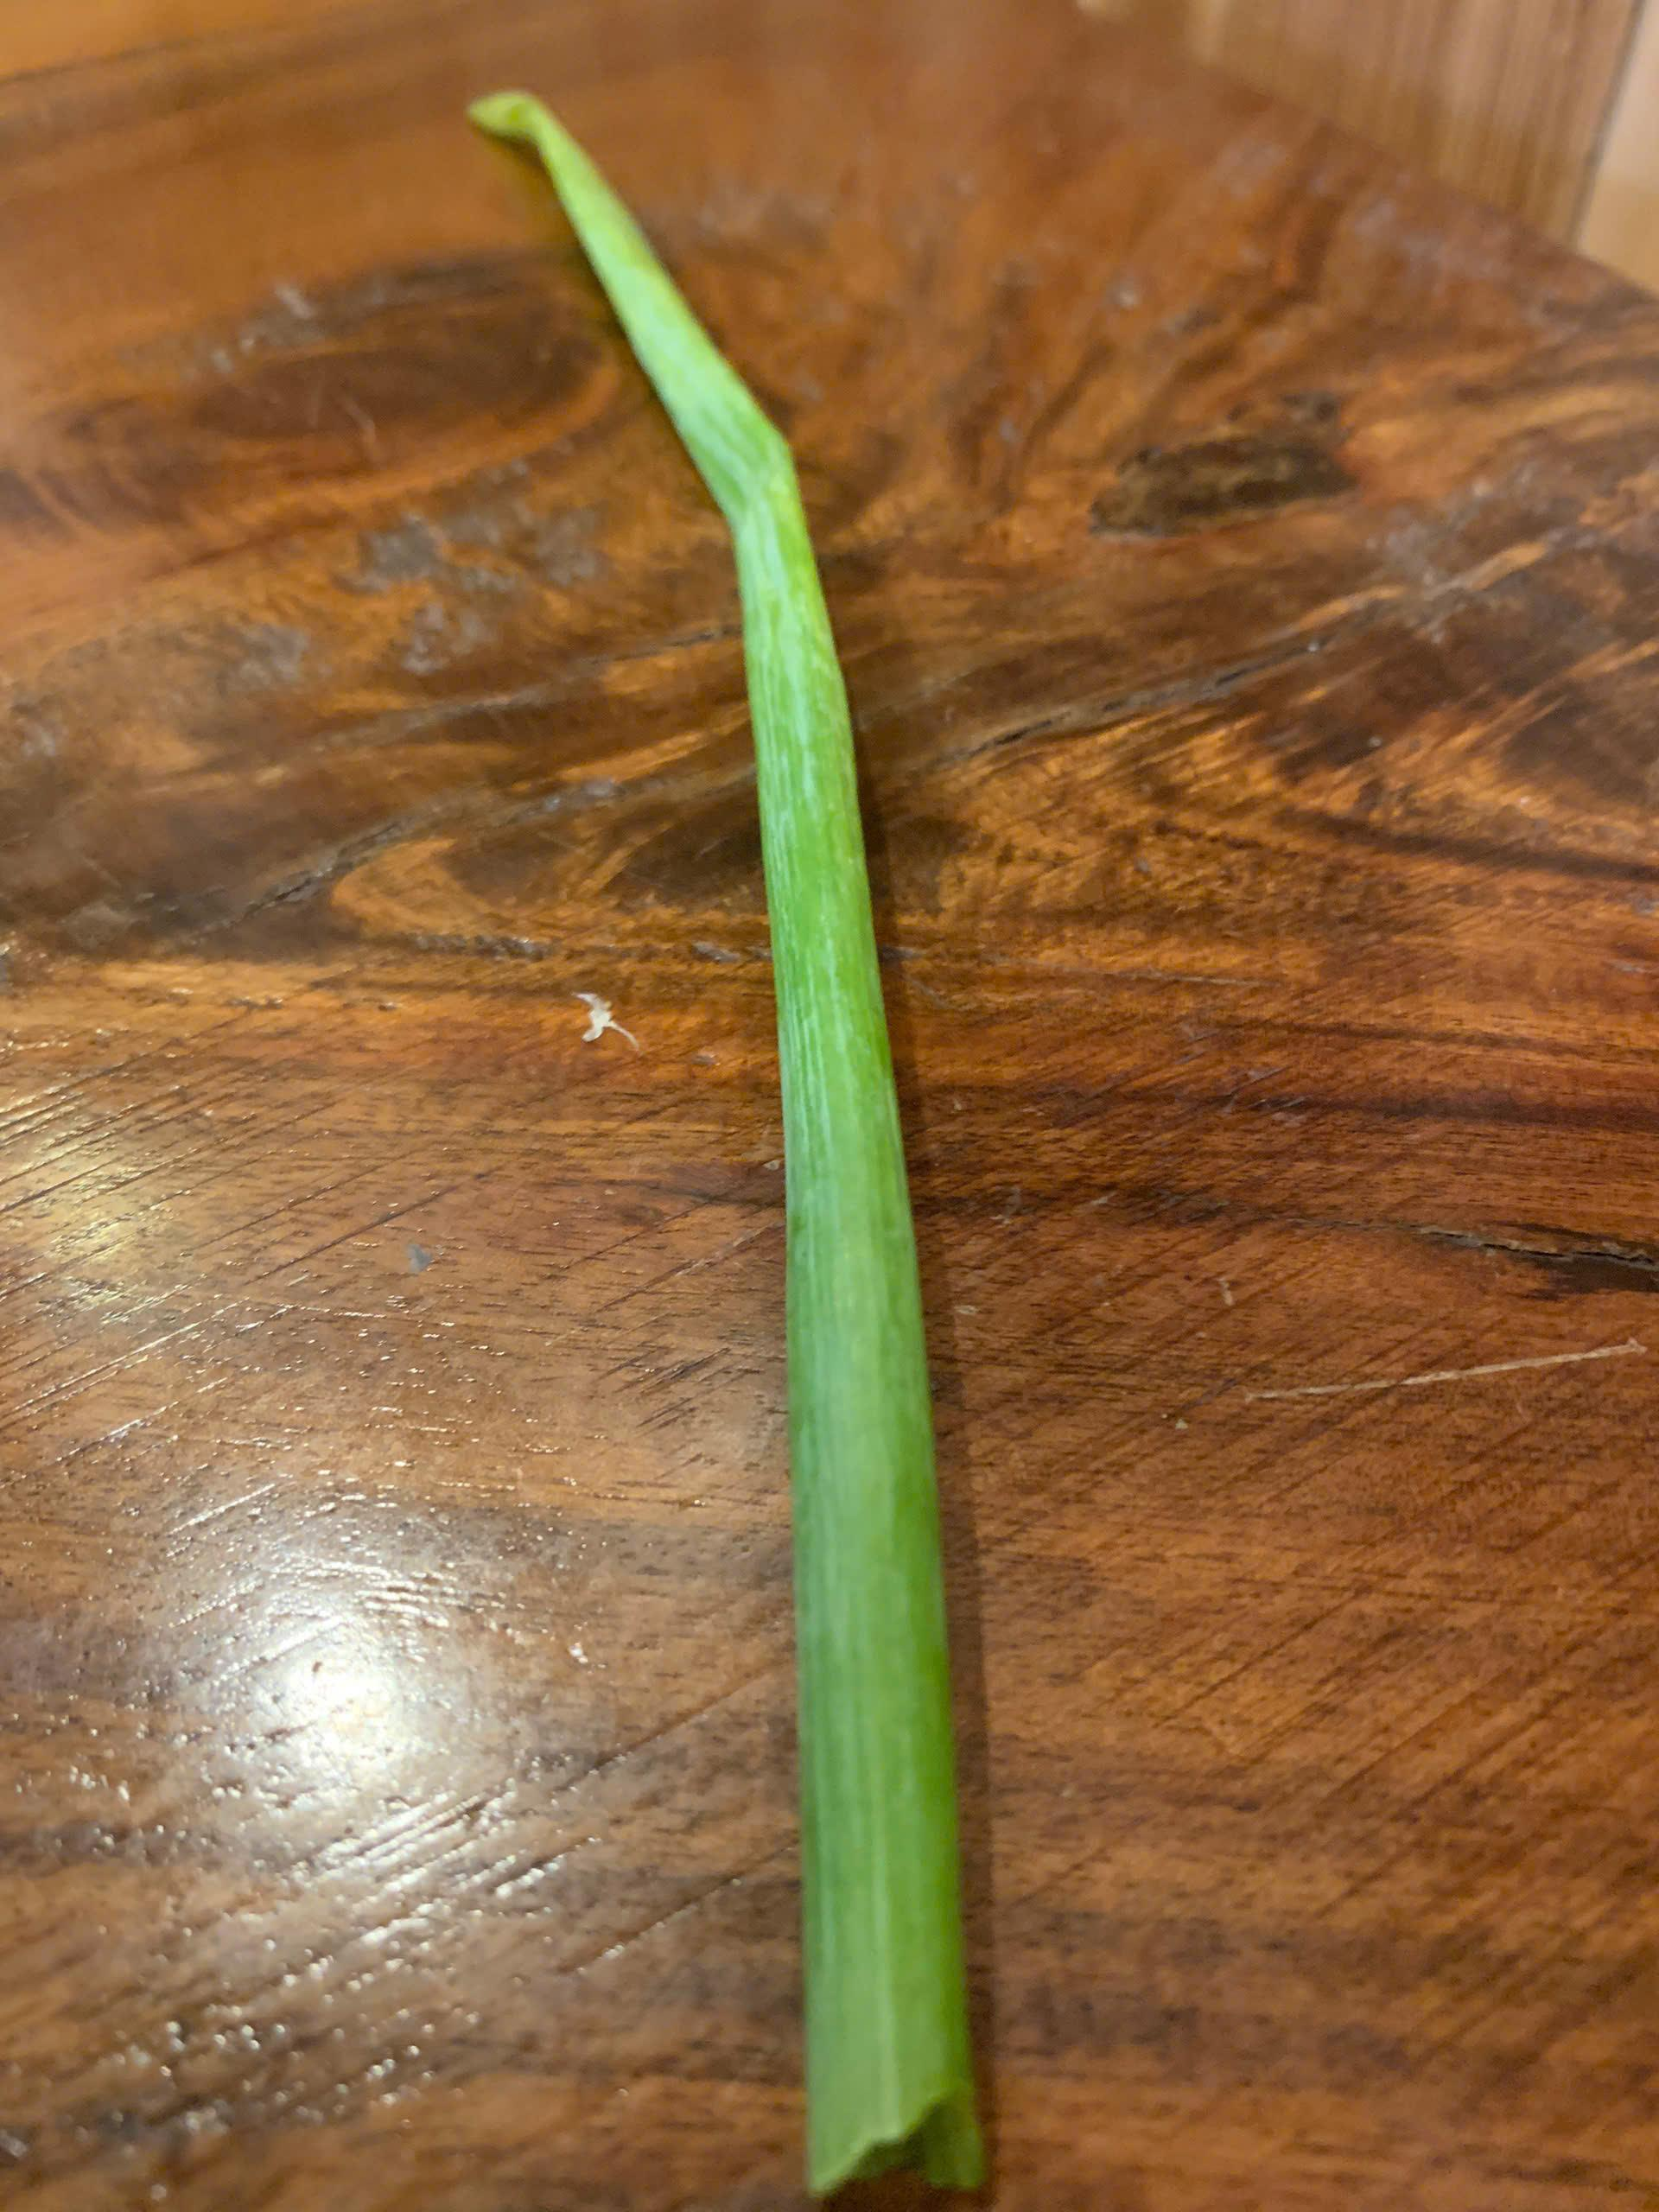Huu co: (479, 96, 1002, 2168)
